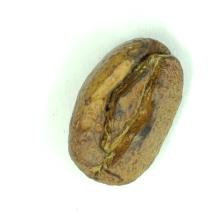NG: (82, 40, 162, 159)
